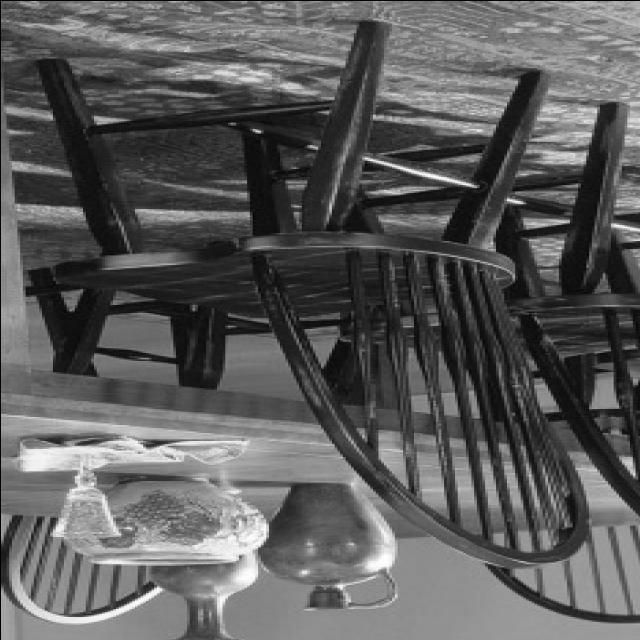chair: (33, 23, 601, 571), (441, 106, 639, 550)
